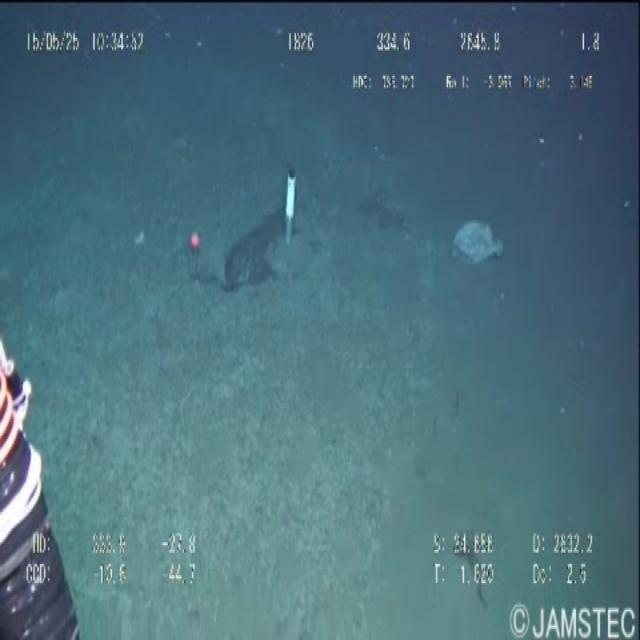Metal: (280, 163, 303, 260)
Plastic: (453, 209, 499, 267)
